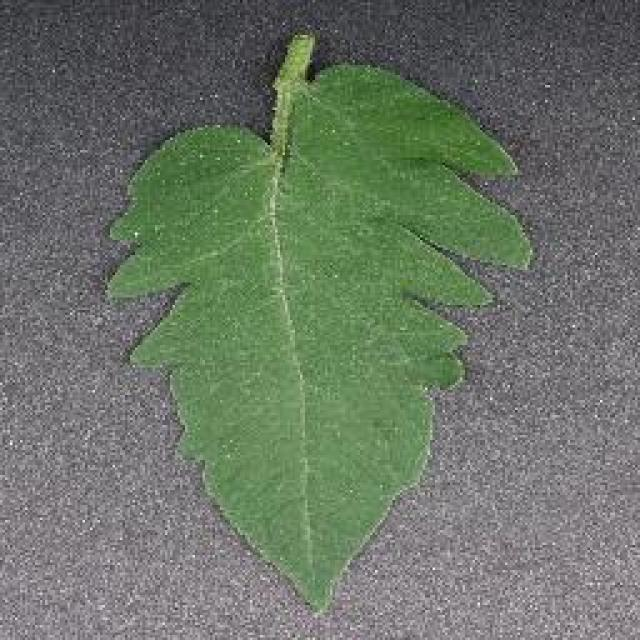Tomato___healthy: (100, 33, 533, 616)
